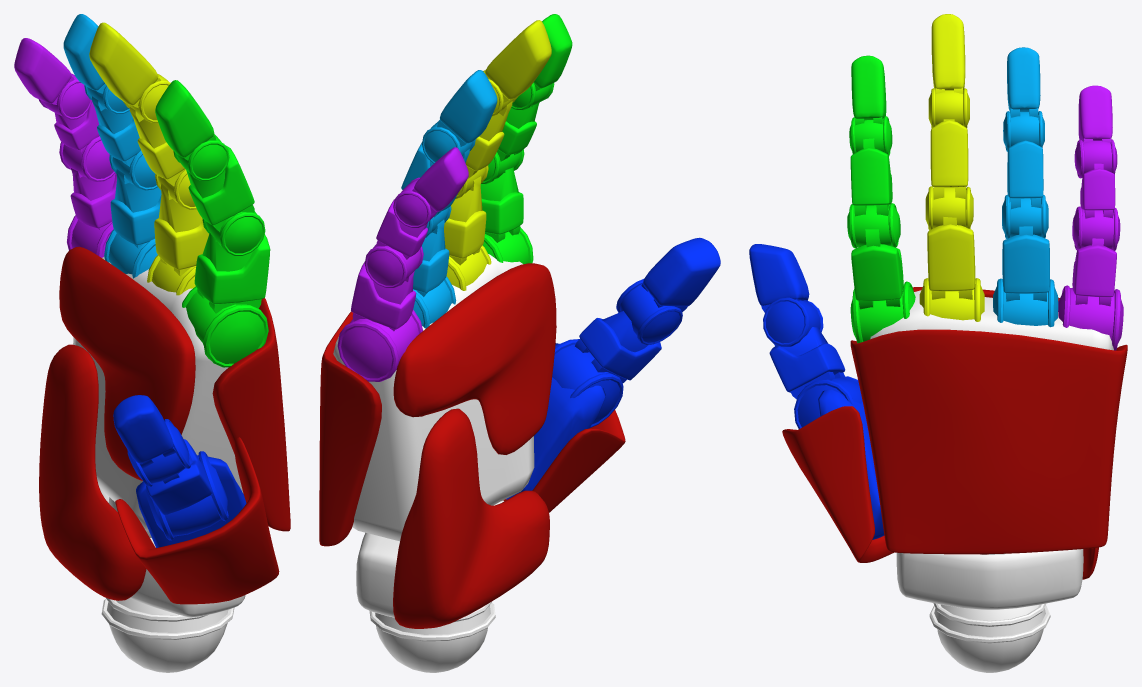
File: mao.glb
3 renders of one model, left to right at view 1: azimuth 30°, elevation 25°; view 2: azimuth 150°, elevation 25°; view 3: azimuth 270°, elevation 25°, orthographic. The views are drawn at different scales.
Parts seen in each view (by area): view 1: PalmaBaixo, PalmaCima, pCube43, CostasMao, Dedo2, MaoInterna, Base, polySurface28, pCube20, polySurface19, polySurface17, Dedo3 (+10 smaller); view 2: PalmaBaixo, PalmaCima, MaoInterna, CostasMao, Dedo5, polySurface28, polySurface19, Base, pCube43, polySurface31, Dedo1, Dedo2 (+10 smaller); view 3: CostasMao, Base, pCube43, Dedo3, Dedo4, Dedo2, polySurface19, Dedo5, polySurface28, pCube20, polySurface12, polySurface30 (+8 smaller).
Part boxes in pixels (left/top/right/bottom): PalmaBaixo: left=39, top=344, right=146, bottom=600; PalmaCima: left=59, top=246, right=195, bottom=480; pCube43: left=115, top=437, right=279, bottom=604; CostasMao: left=212, top=298, right=290, bottom=531; Dedo2: left=182, top=232, right=270, bottom=367; MaoInterna: left=73, top=257, right=243, bottom=537; Base: left=100, top=488, right=245, bottom=639; polySurface28: left=146, top=439, right=228, bottom=540; pCube20: left=186, top=145, right=265, bottom=255; polySurface19: left=113, top=395, right=190, bottom=486; polySurface17: left=155, top=80, right=229, bottom=180; Dedo3: left=147, top=183, right=208, bottom=295; PalmaBaixo: left=393, top=408, right=549, bottom=628; PalmaCima: left=393, top=263, right=556, bottom=454; MaoInterna: left=333, top=254, right=534, bottom=541; CostasMao: left=319, top=311, right=381, bottom=546; Dedo5: left=337, top=261, right=422, bottom=381; polySurface28: left=552, top=311, right=661, bottom=427; polySurface19: left=616, top=237, right=720, bottom=344; Base: left=356, top=500, right=503, bottom=641; pCube43: left=503, top=410, right=625, bottom=512; polySurface31: left=422, top=70, right=497, bottom=163; Dedo1: left=506, top=343, right=605, bottom=499; Dedo2: left=480, top=167, right=533, bottom=264; CostasMao: left=850, top=329, right=1127, bottom=554; Base: left=896, top=549, right=1083, bottom=643; pCube43: left=782, top=406, right=894, bottom=562; Dedo3: left=919, top=217, right=984, bottom=321; Dedo4: left=993, top=226, right=1058, bottom=327; Dedo2: left=850, top=229, right=915, bottom=343; polySurface19: left=749, top=244, right=823, bottom=346; Dedo5: left=1058, top=238, right=1123, bottom=350; polySurface28: left=769, top=327, right=862, bottom=428; pCube20: left=847, top=138, right=900, bottom=248; polySurface12: left=925, top=119, right=973, bottom=230; polySurface30: left=928, top=14, right=969, bottom=127.
Size of the model in its own units: 2.58 by 6.71 by 3.74.
